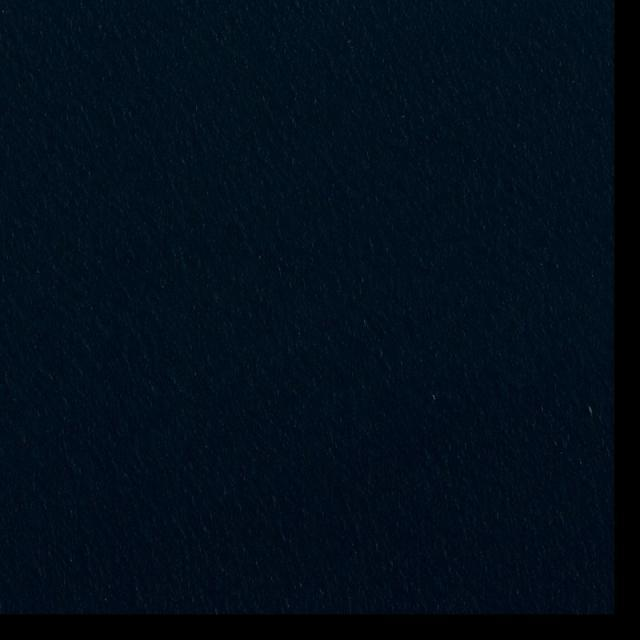ship: (588, 406, 594, 414), (433, 395, 437, 402)
